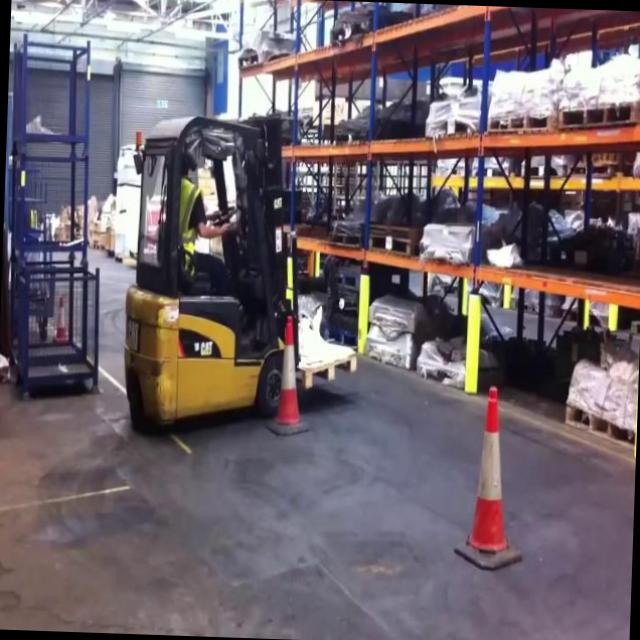driver: (172, 156, 240, 295)
forklift: (114, 99, 301, 444)
